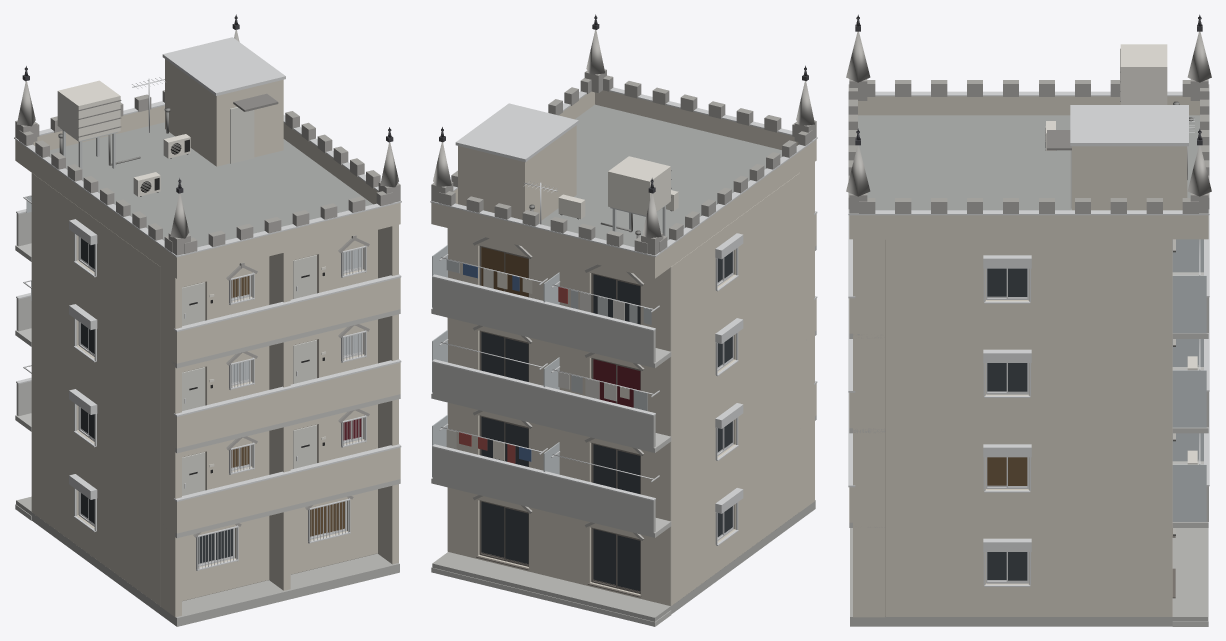
The model's file is blk_skyline6.glb.
3 views of the same model, side by side, from view 1: azimuth 30°, elevation 25°; view 2: azimuth 150°, elevation 25°; view 3: azimuth 270°, elevation 25° (orthographic). The views are drawn at different scales.
Parts seen in each view (by area): view 1: blk_skyline6; view 2: blk_skyline6; view 3: blk_skyline6.
Boxes of the visible parts, x1,y1,x2,y2 form: blk_skyline6: (14, 14, 401, 626); blk_skyline6: (430, 14, 817, 626); blk_skyline6: (846, 14, 1211, 626).
Size of the model in its own units: 8.46 by 15.2 by 10.18.
